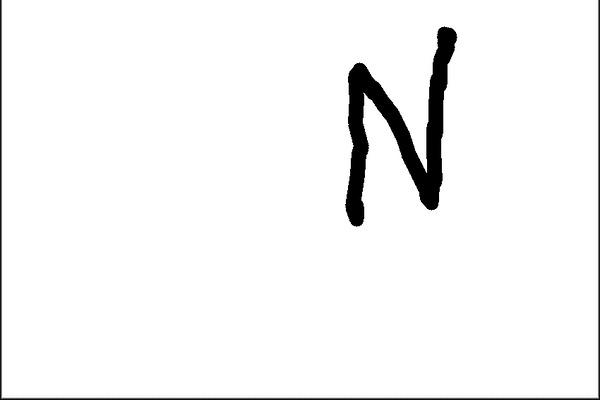N: (339, 21, 458, 229)
